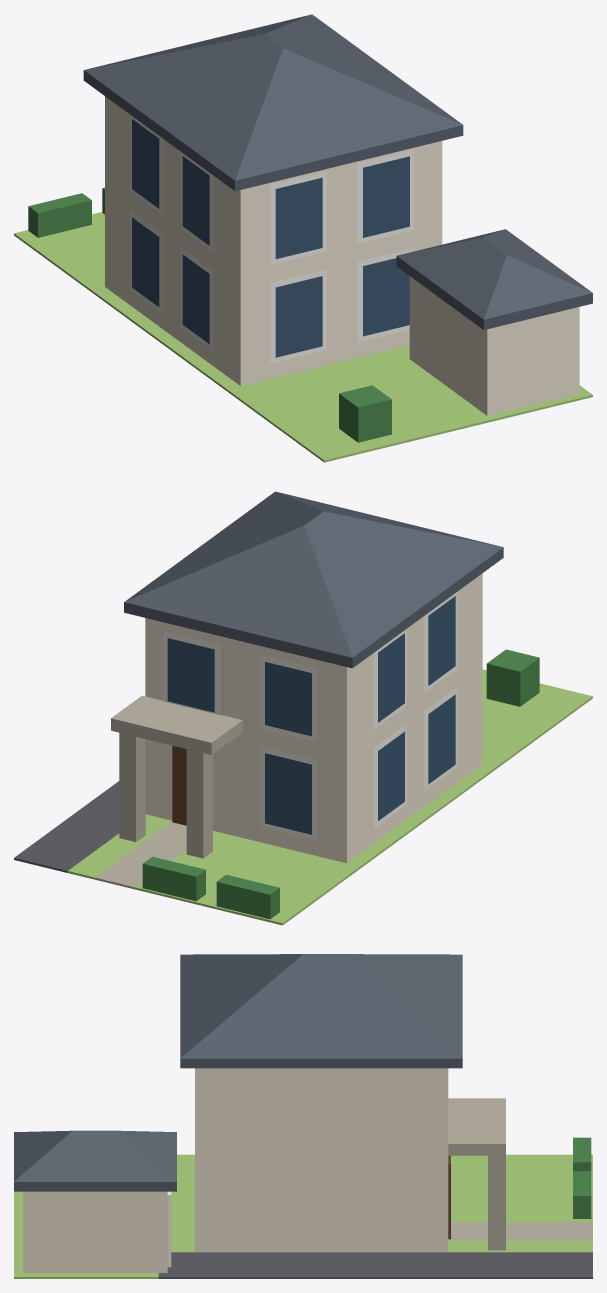
3 views of the same model, one above another, from view 1: azimuth 30°, elevation 25°; view 2: azimuth 150°, elevation 25°; view 3: azimuth 270°, elevation 25° (orthographic). The views are drawn at different scales.
Parts seen in each view (by area): view 1: roof (×2), wall, window_glass (×8), lawn (×3), garage, window_frame (×8), tree_spot, hedge; view 2: roof, wall, window_glass (×7), lawn (×4), window_frame (×7), column (×2), canopy, asphalt, hedge (×2), tree_spot, paving, door; view 3: wall, roof (×2), lawn (×4), garage, asphalt, canopy, paving, column, hedge (×2).
Part boxes in pixels (x1,y1,x2,y2): roof (×2): (83, 14, 592, 329); wall: (105, 96, 442, 385); window_glass (×8): (132, 119, 409, 357); lawn (×3): (14, 212, 592, 462); garage: (409, 276, 579, 415); window_frame (×8): (130, 115, 414, 363); tree_spot: (339, 385, 391, 442); hedge: (28, 193, 91, 237); roof: (124, 491, 503, 668); wall: (145, 573, 482, 863); window_glass (×7): (167, 596, 455, 834); lawn (×4): (67, 669, 592, 925); window_frame (×7): (163, 592, 457, 840); column (×2): (119, 732, 212, 858); canopy: (111, 695, 242, 754); asphalt: (14, 781, 119, 872); hedge (×2): (142, 856, 279, 919); tree_spot: (486, 649, 539, 706); paving: (94, 821, 186, 889); door: (172, 745, 186, 825); wall: (195, 1068, 448, 1252); roof (×2): (14, 954, 462, 1191); lawn (×4): (14, 1154, 592, 1278); garage: (23, 1191, 167, 1272); asphalt: (158, 1252, 592, 1278); canopy: (448, 1098, 505, 1155); paving: (448, 1222, 592, 1240); column: (488, 1155, 505, 1250); hedge (×2): (573, 1137, 591, 1218).
Size of the model in its own units: 8 by 7.76 by 16.
